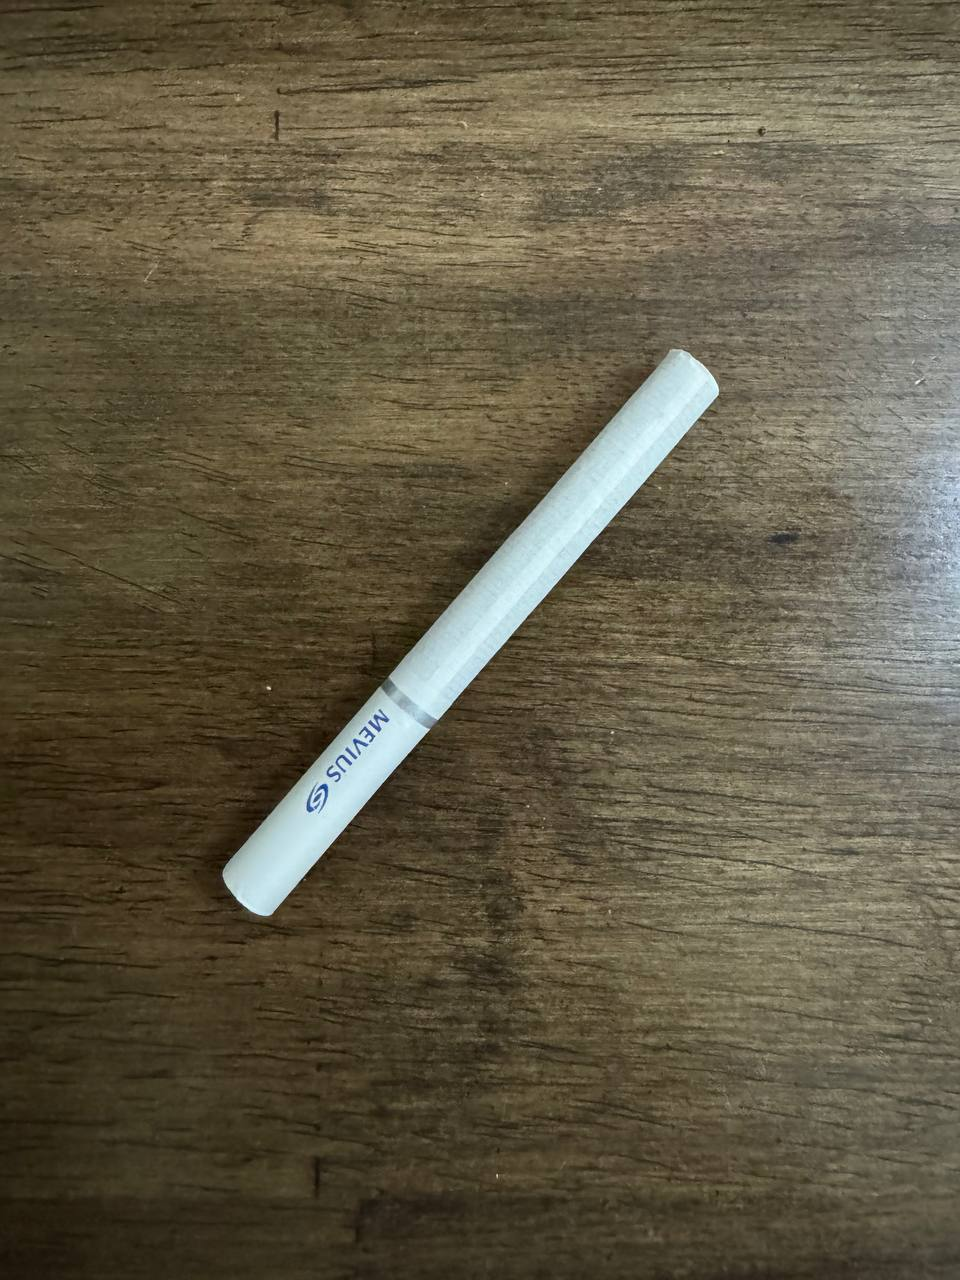trash: (213, 343, 727, 924)
